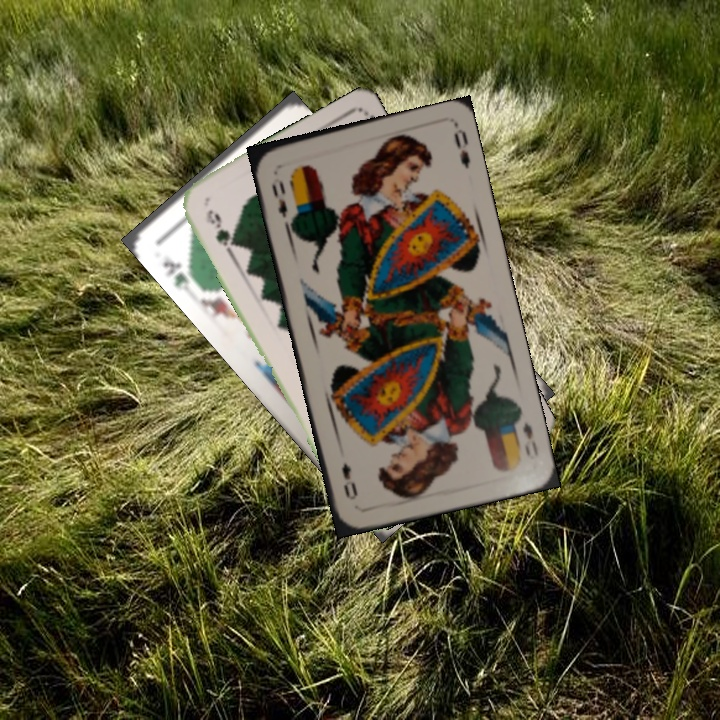EO: (267, 174, 290, 220), (518, 419, 541, 459)
G9: (201, 205, 239, 251)
GK: (158, 257, 192, 293)
